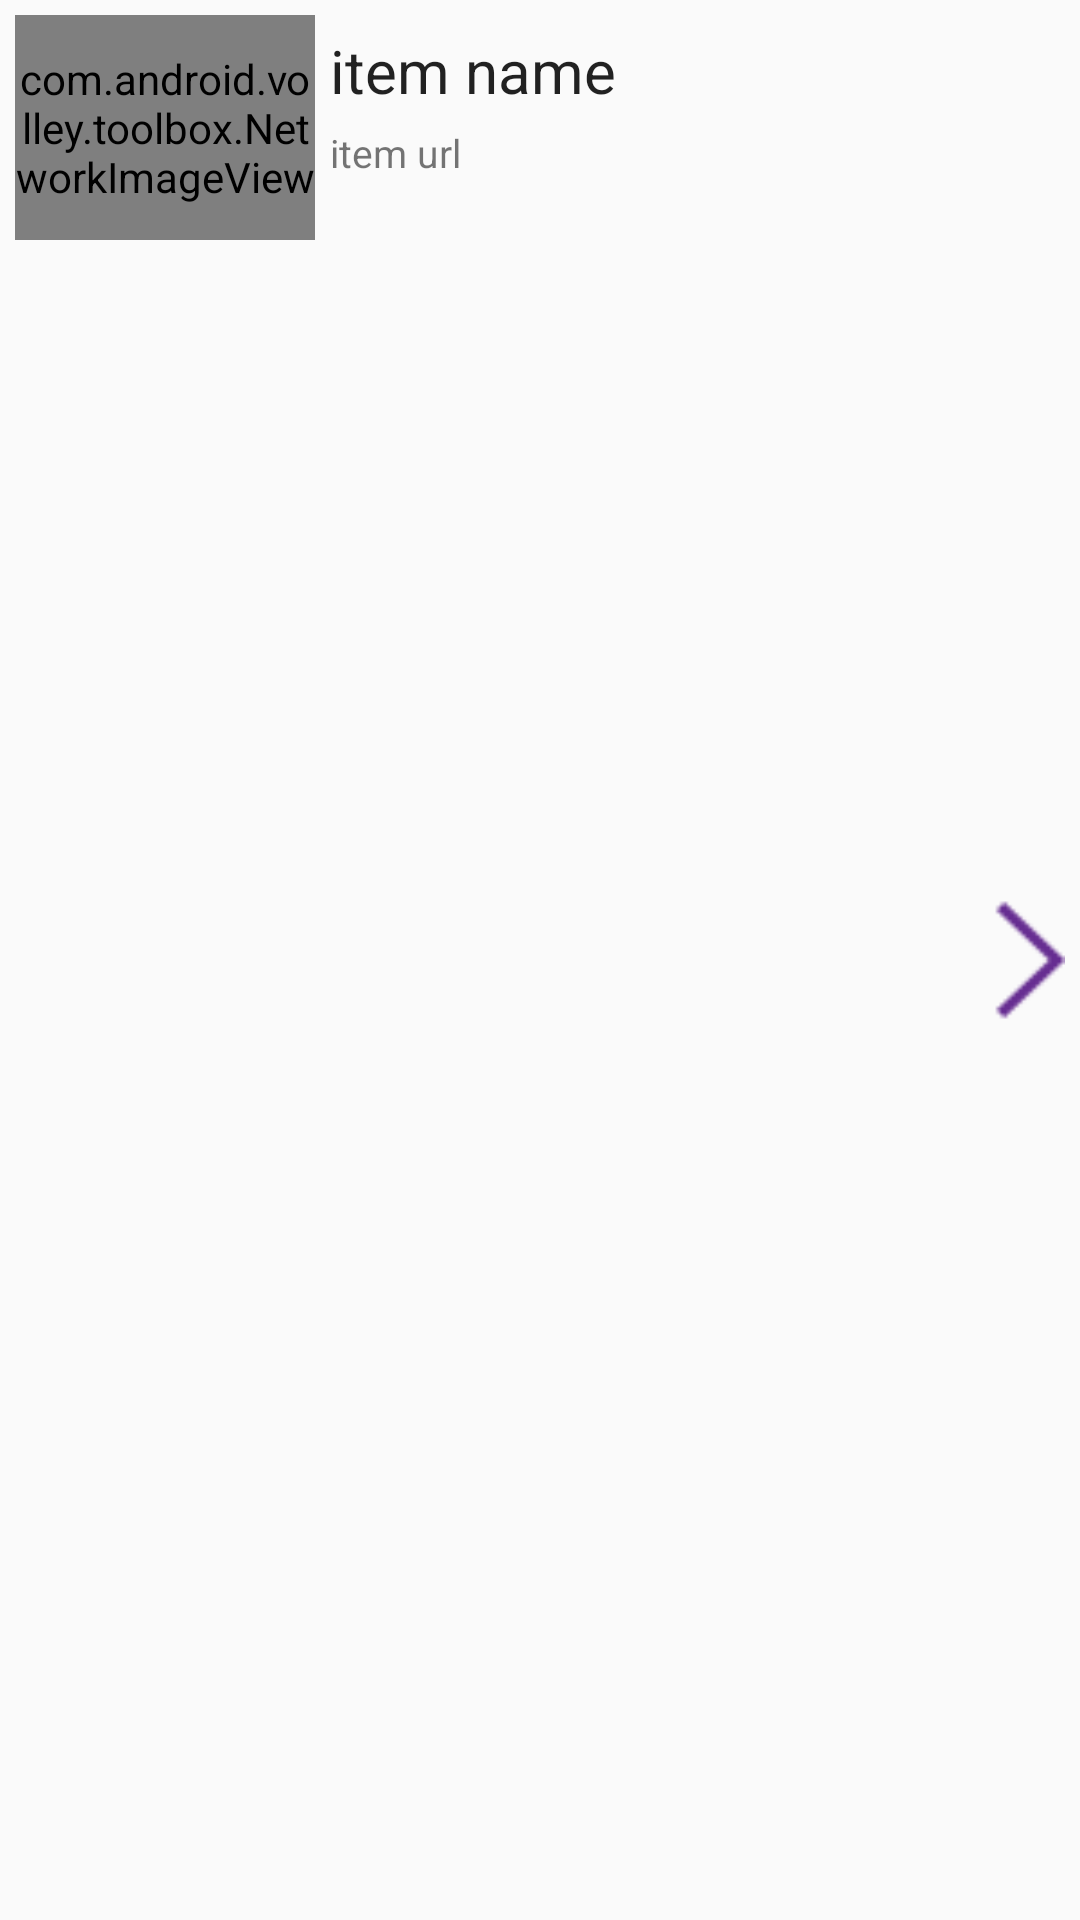

Screen size 1080px x 1920px. Icon name, then its center in pixels as point (x, y):
arrow right: point (1030, 960)
